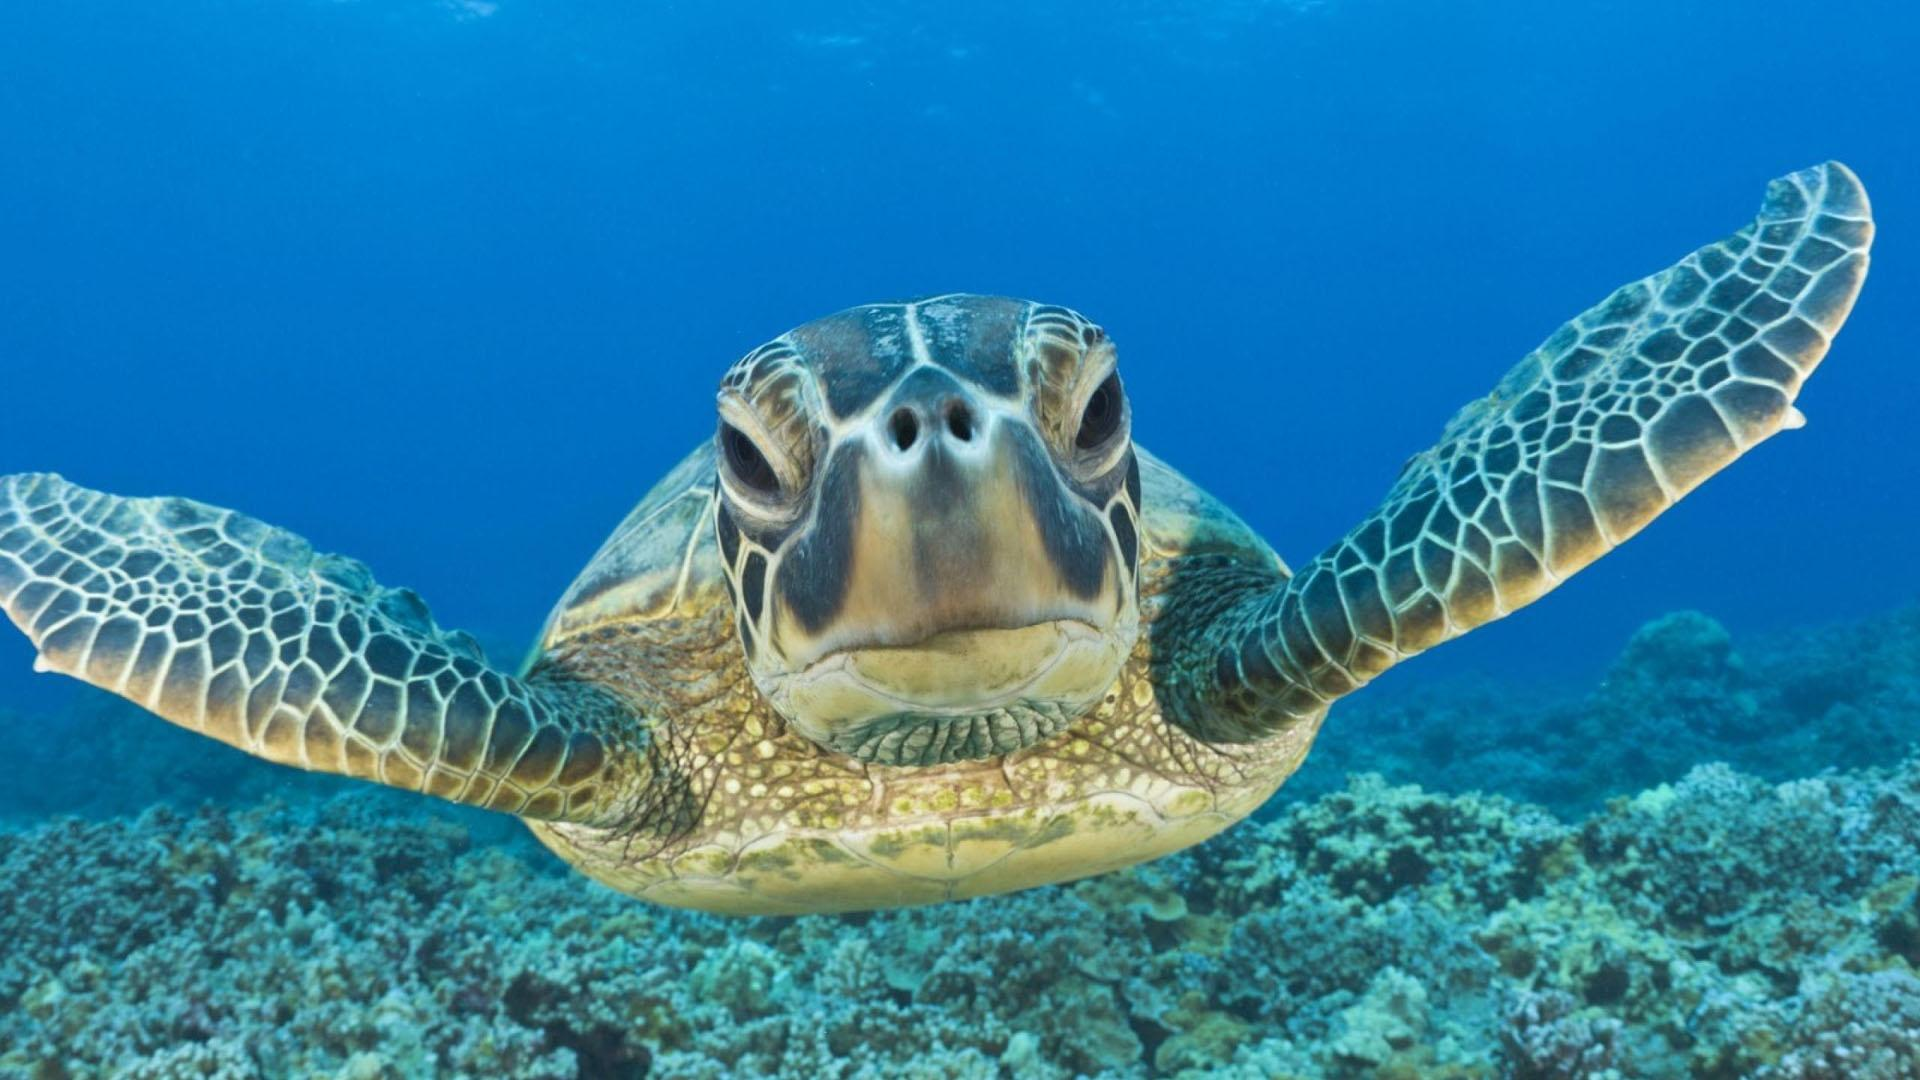turtle: (688, 249, 1159, 781)
